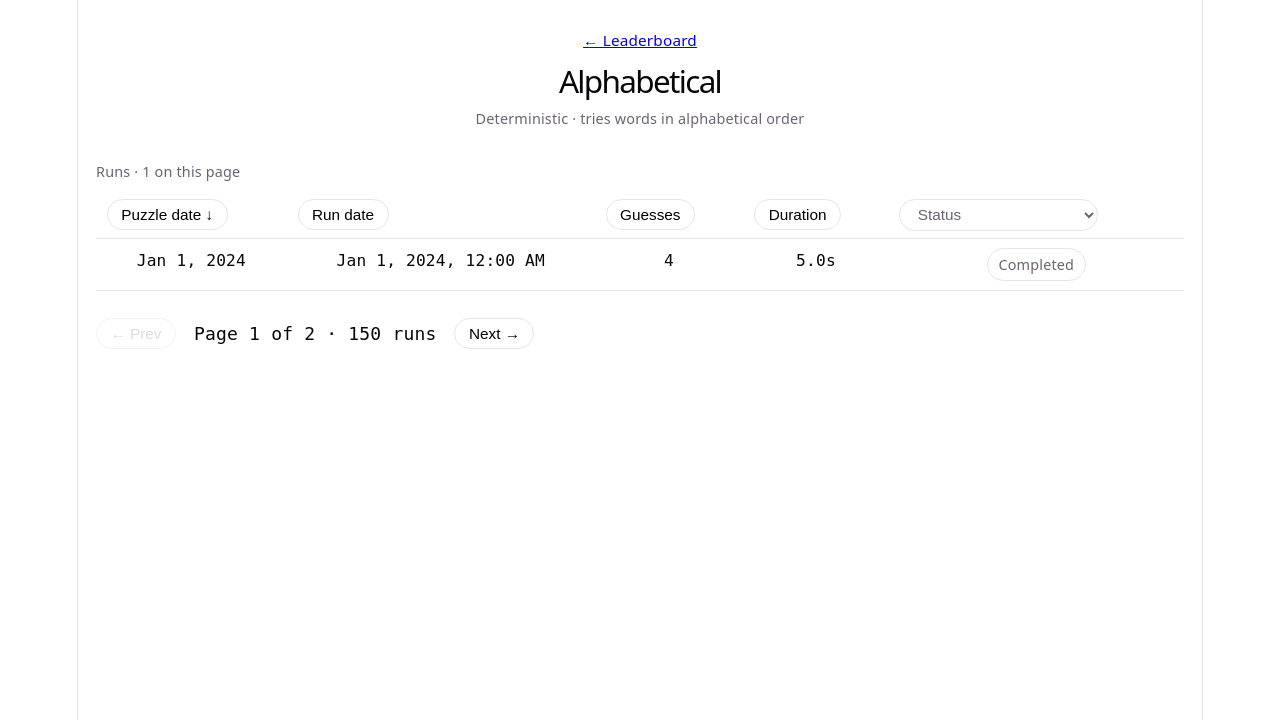
StrategyPuzzlePage › requests the next page and toggles the prev/next buttons
Check: the table is shown, box [96,159,1184,291]
Check: the button "← Prev" is disabled, box [96,318,176,349]
Click the button "Next →". click: (494, 334)
box: [454,318,534,349]
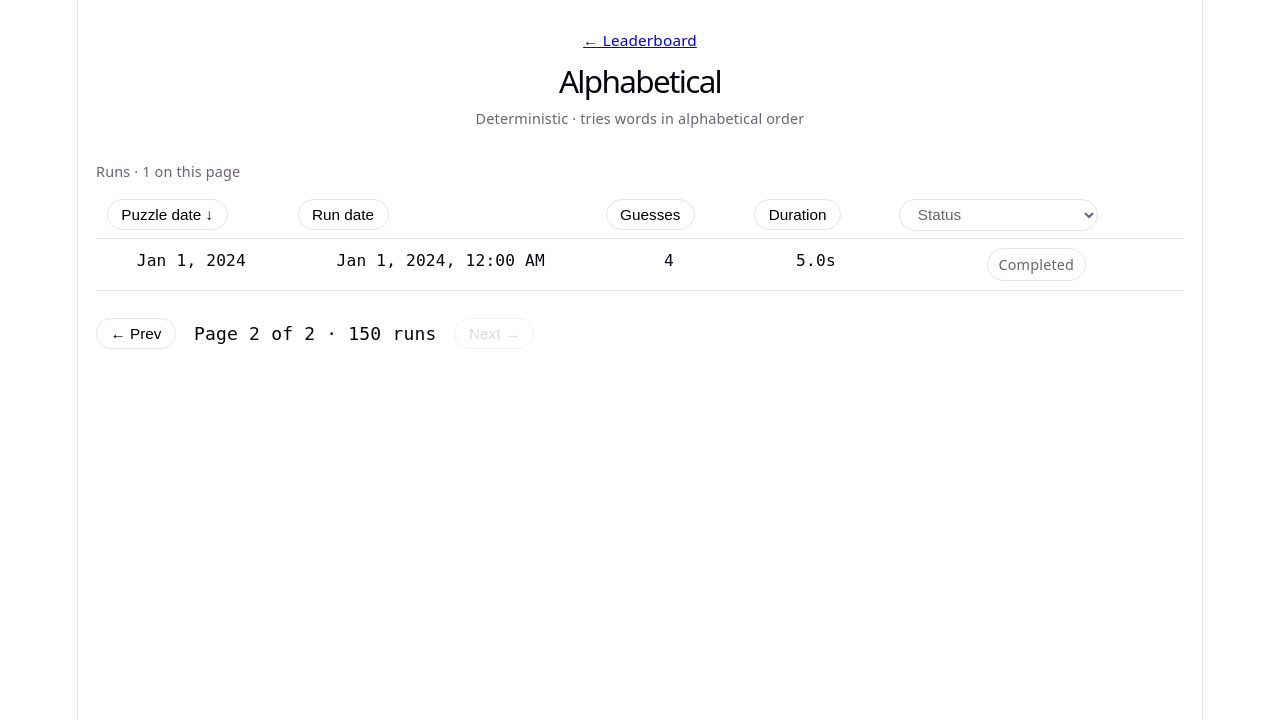
Check: the text "Page 2 of 2 · 150 runs" is shown, box [194,321,436,347]
